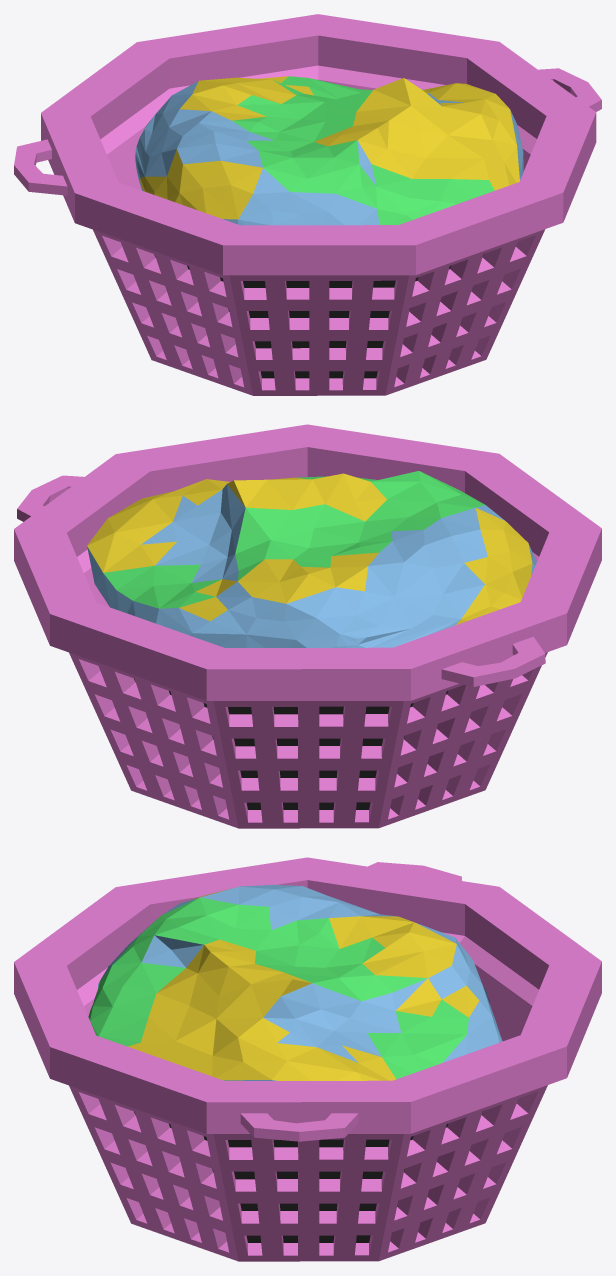
File: Basket_Objects.fbx
The picture shows the model from 3 angles, top to bottom: view 1: azimuth 30°, elevation 25°; view 2: azimuth 150°, elevation 25°; view 3: azimuth 270°, elevation 25°; orthographic projection. The views are drawn at different scales.
Visible parts, largest first — view 1: Basket, Basket_Laundry, Basket_Handle2, Basket_Handle1; view 2: Basket, Basket_Laundry, Basket_Handle2, Basket_Handle1; view 3: Basket, Basket_Laundry, Basket_Handle1, Basket_Handle2.
Part boxes in pixels (x1=…): Basket: x1=41, y1=14, x2=596, y2=395; Basket_Laundry: x1=135, y1=76, x2=523, y2=225; Basket_Handle2: x1=14, y1=139, x2=67, y2=195; Basket_Handle1: x1=538, y1=68, x2=601, y2=111; Basket: x1=14, y1=424, x2=601, y2=828; Basket_Laundry: x1=87, y1=471, x2=536, y2=647; Basket_Handle2: x1=441, y1=636, x2=545, y2=686; Basket_Handle1: x1=17, y1=475, x2=83, y2=521; Basket: x1=14, y1=857, x2=601, y2=1261; Basket_Laundry: x1=88, y1=884, x2=502, y2=1080; Basket_Handle1: x1=240, y1=1113, x2=358, y2=1141; Basket_Handle2: x1=368, y1=862, x2=461, y2=880.
Bounding box in the file's own units: 237 × 98.88 × 219.
